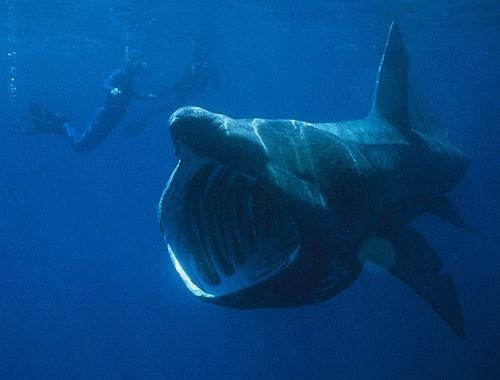fish: (147, 21, 500, 315)
